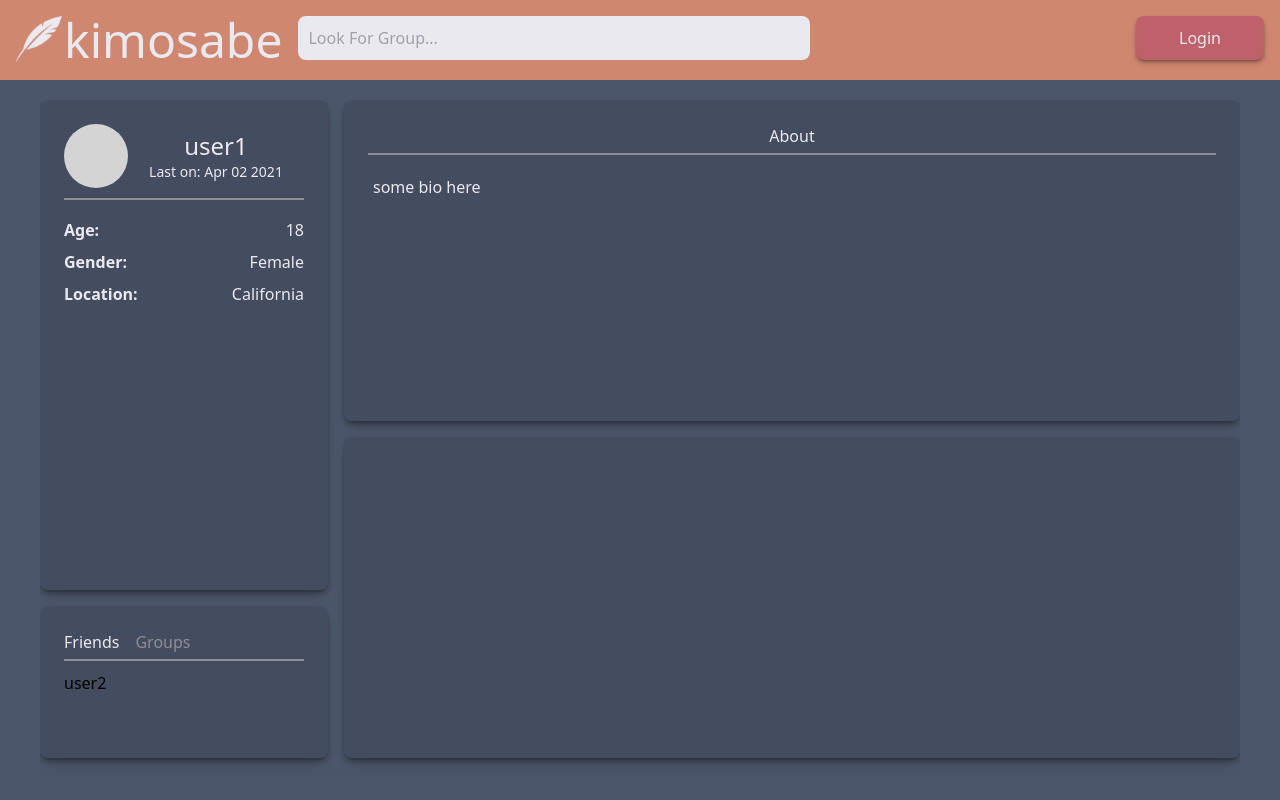
Test: pages/userprofile.js › and apis all return 200 › when user clicks group › then it should display groups tab
Click the text "Groups" at (163, 642), box [136,631,190,653]
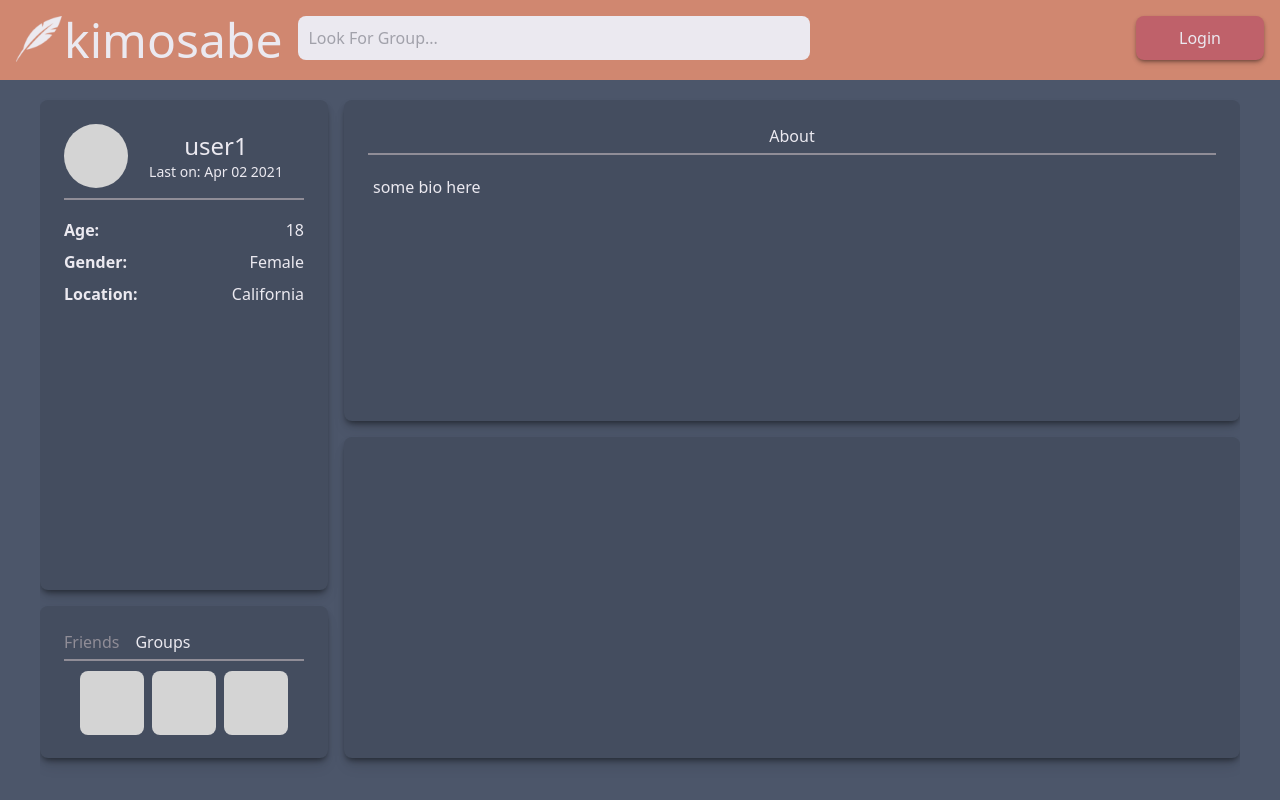
Expected: the element with test id "users-groups" is shown, [80,671,288,735]
